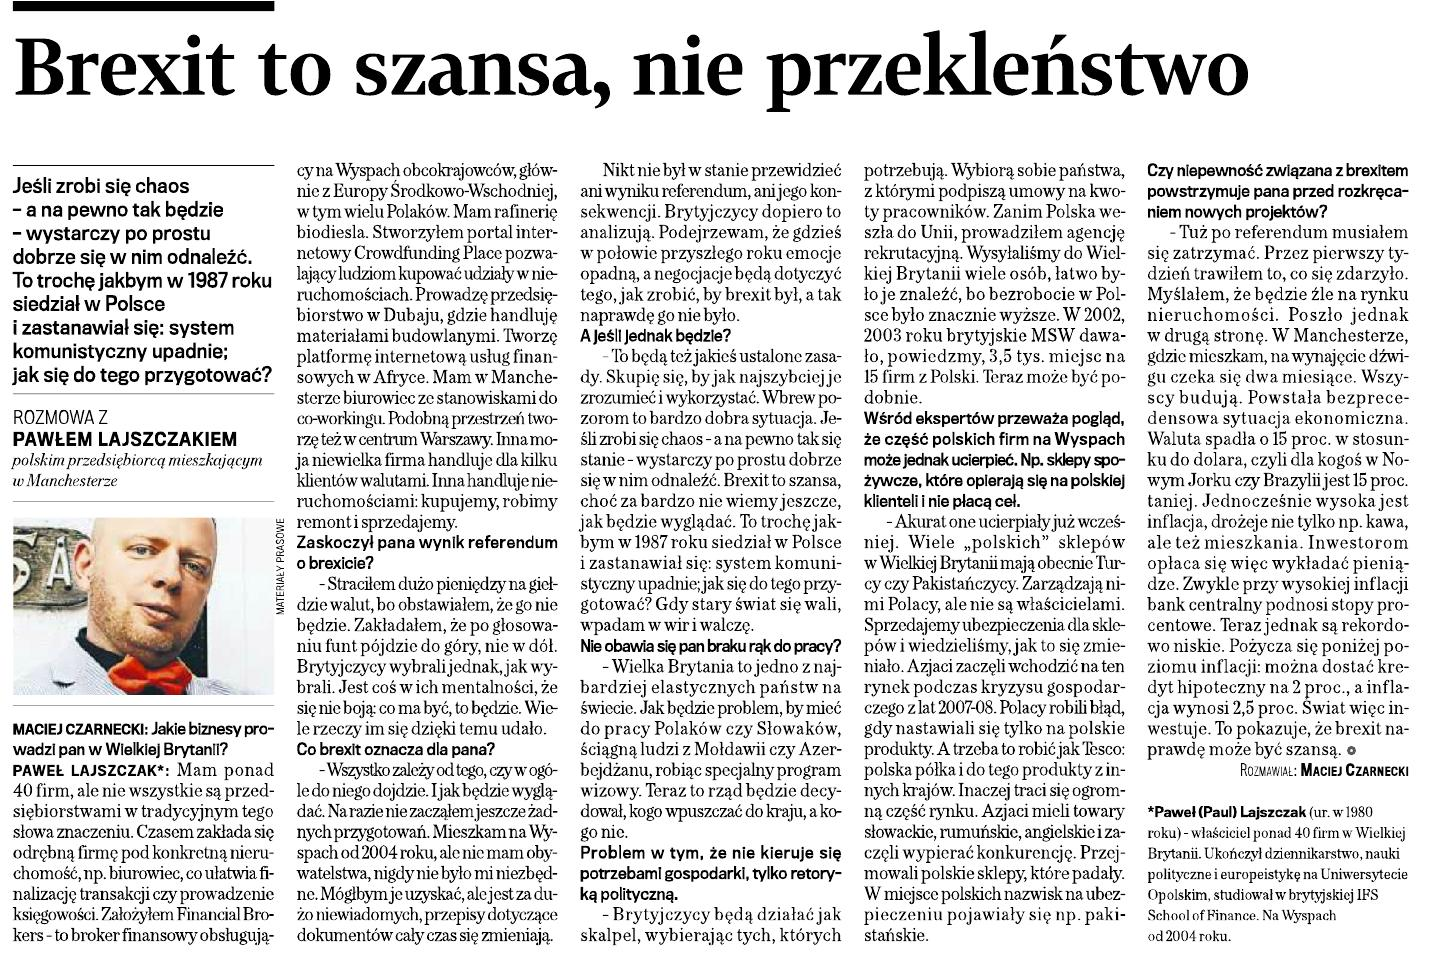author: (1297, 755, 1415, 782)
body: (570, 159, 848, 952), (284, 159, 561, 952), (852, 157, 1128, 950), (1132, 157, 1413, 759), (5, 714, 281, 950), (7, 397, 272, 495)
image: (5, 509, 279, 699)
lead: (5, 170, 277, 387)
title: (10, 15, 1270, 119)
